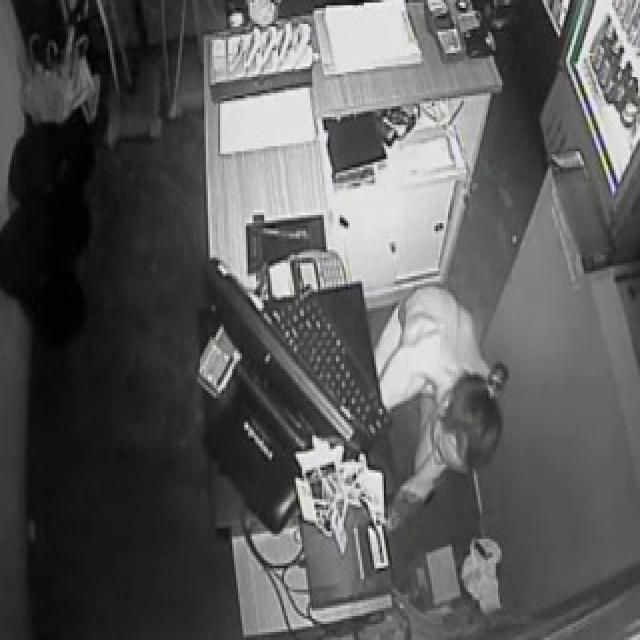thief: (395, 309, 520, 518)
